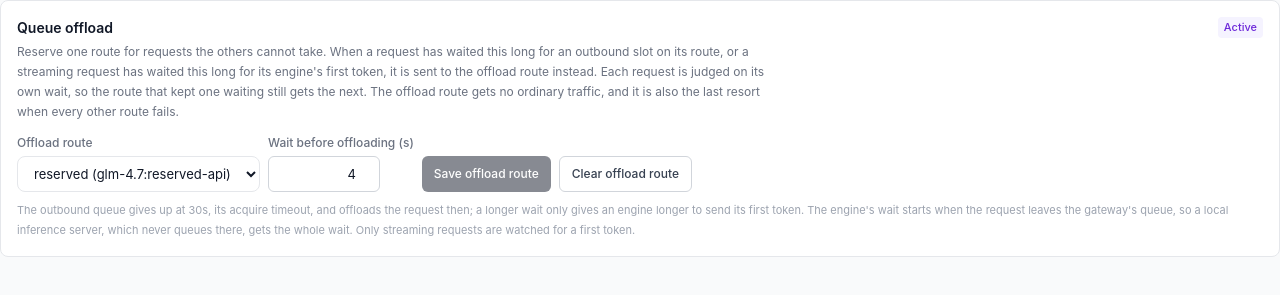
Test: OffloadRoutePanel › rejects a wait at zero before sending it
Replace the text in the number field named "Offload wait seconds" with "0": (324,174) [268,156,380,192]
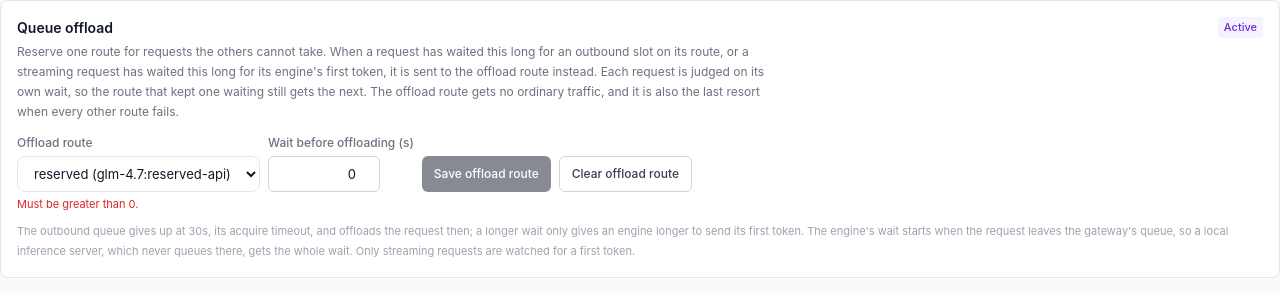
Expected: the button "Save offload route" is disabled, [422,156,551,192]
Expected: the message reads "Must be greater than 0.", [17,197,138,211]
